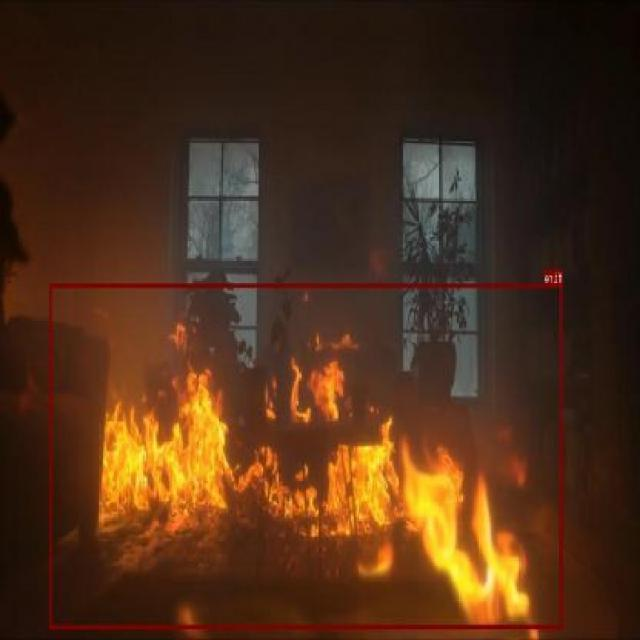Fire: (50, 282, 564, 628)
